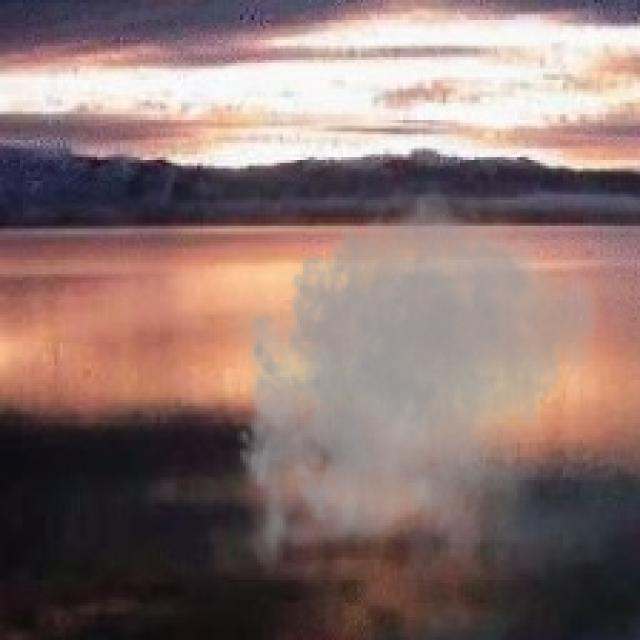smoke: (220, 177, 609, 583)
